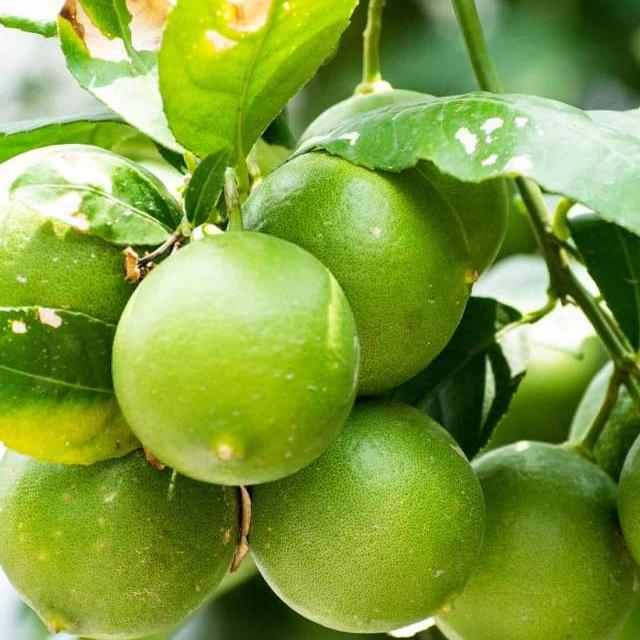lime: (113, 230, 362, 492), (231, 154, 476, 404), (249, 402, 477, 637), (0, 449, 245, 640), (427, 441, 640, 640)
